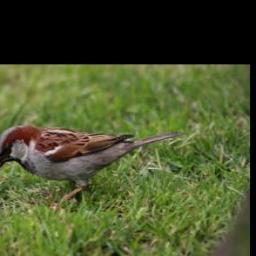Sparrow: (0, 123, 182, 212)
